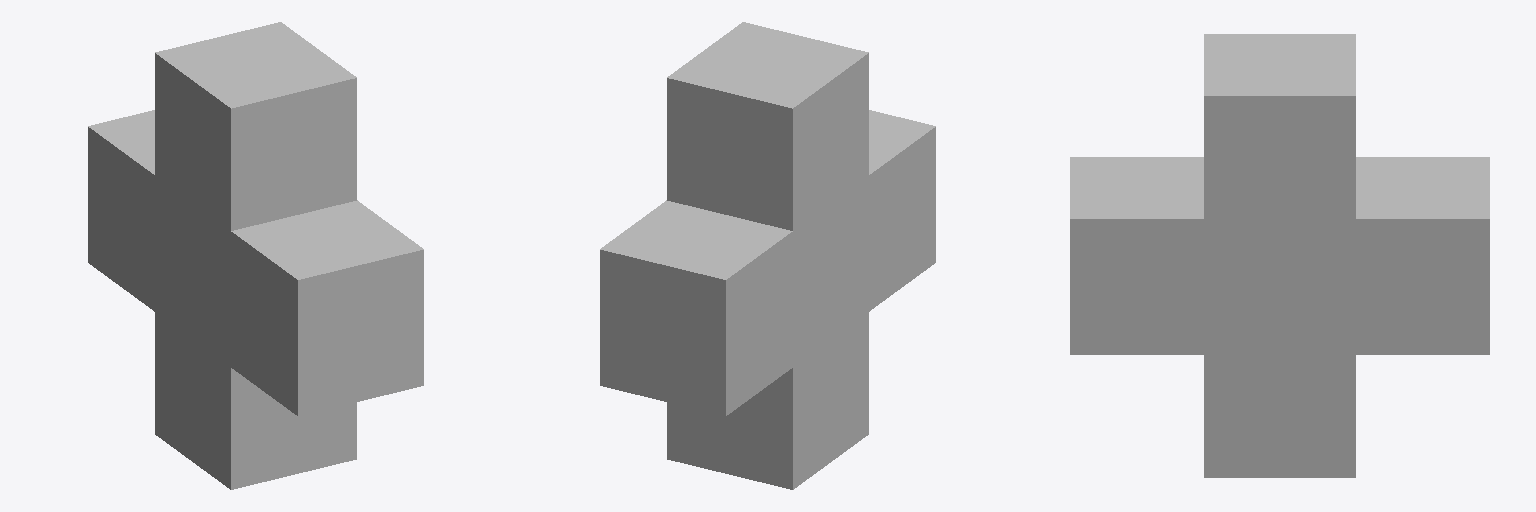
Rendered from HealthPickup.obj.
3 views of the same model, side by side, from view 1: azimuth 30°, elevation 25°; view 2: azimuth 150°, elevation 25°; view 3: azimuth 270°, elevation 25° (orthographic).
Visible parts, largest first — view 1: HealthPickup_Plane.004; view 2: HealthPickup_Plane.004; view 3: HealthPickup_Plane.004.
Boxes of the visible parts, <box> form: HealthPickup_Plane.004: <box>88,22,423,489</box>; HealthPickup_Plane.004: <box>600,22,935,489</box>; HealthPickup_Plane.004: <box>1070,34,1489,477</box>.
Size of the model in its own units: 0.2299 by 0.6636 by 0.6632.